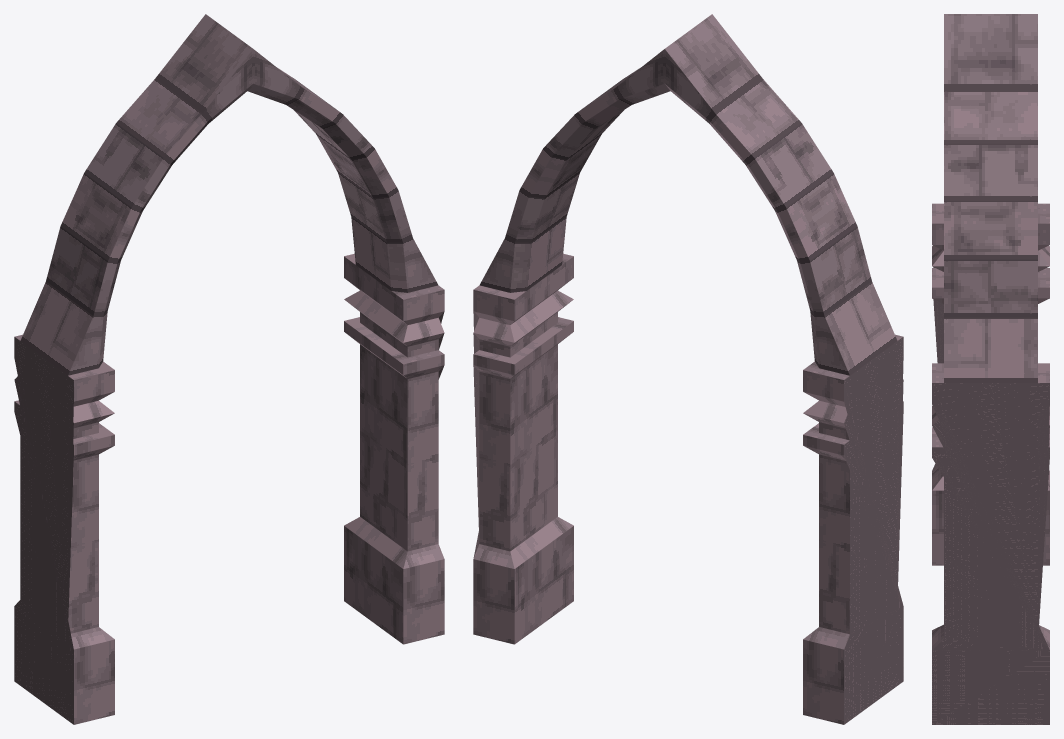
File: ceiling_arch_a.glb
3 renders of one model, left to right at view 1: azimuth 30°, elevation 25°; view 2: azimuth 150°, elevation 25°; view 3: azimuth 270°, elevation 25°, orthographic.
Visible parts, largest first — view 1: arch, pillar_left, pillar_right; view 2: arch, pillar_right, pillar_left; view 3: pillar_right, arch, pillar_left.
Part boxes in pixels (x1,y1,x2,y2): arch: (20,14,438,375); pillar_left: (14,334,114,724); pillar_right: (344,253,444,644); arch: (479,14,897,375); pillar_right: (473,253,573,644); pillar_left: (803,334,903,724); pillar_right: (932,363,1049,724); arch: (944,14,1037,382); pillar_left: (932,203,1049,565).
Size of the model in its own units: 2.25 by 3.63 by 0.625.
Materials: 1 (1 with a texture image).
